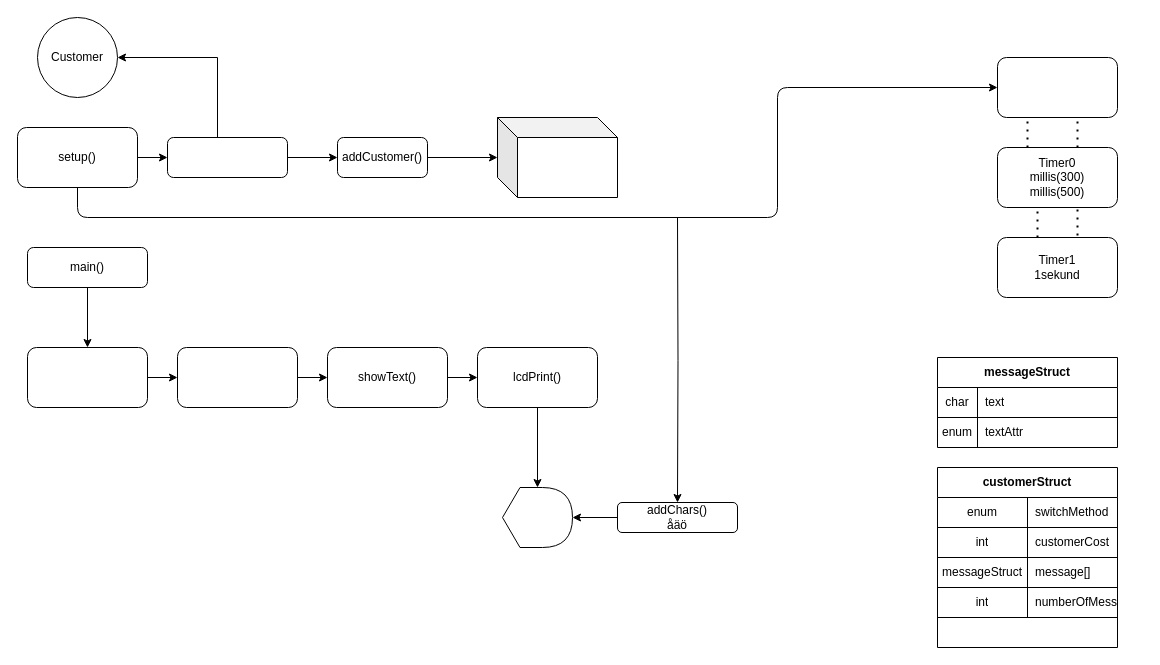
Some shapes in this 1160 by 665 pixel diagram are drawn without their labels. Here are the shapes that lost their labels. From the top down, the centre of each, then its label:
At [1057,87]: "setupTimer()".
At [227,157]: "populateCustomer()".
At [557,157]: "customerData PROGMEM".
At [87,377]: "chooseCustomer".
At [237,377]: "displayCustomer()".
At [537,517]: "LCD".
